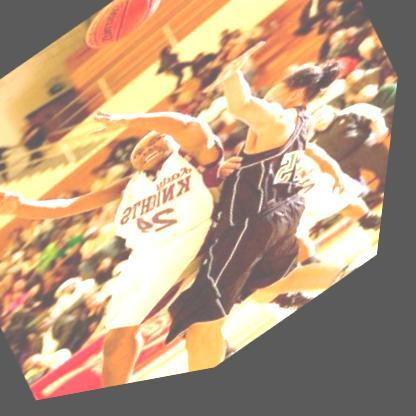basketball: (74, 0, 174, 67)
